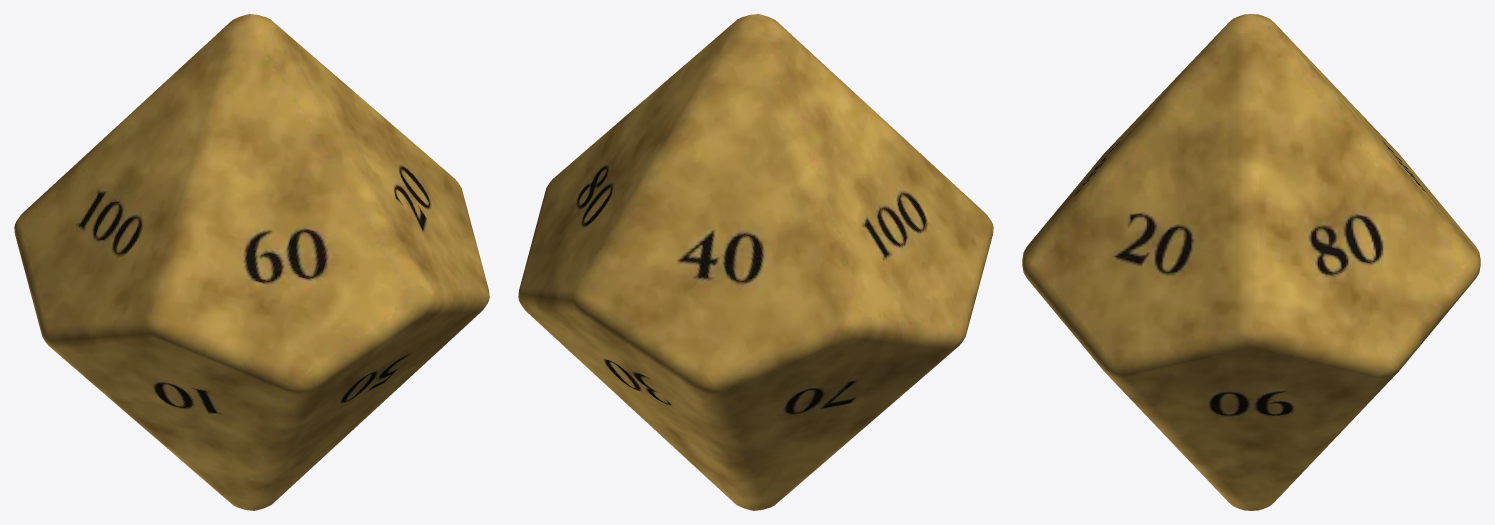
File: imperial-d100.glb
The picture shows the model from 3 angles, left to right: view 1: azimuth 30°, elevation 25°; view 2: azimuth 150°, elevation 25°; view 3: azimuth 270°, elevation 25°; orthographic projection.
Visible parts, largest first — view 1: imperial_d100; view 2: imperial_d100; view 3: imperial_d100.
Part boxes in pixels (x1=…): imperial_d100: x1=14, y1=14, x2=489, y2=510; imperial_d100: x1=518, y1=14, x2=993, y2=510; imperial_d100: x1=1022, y1=14, x2=1480, y2=510.
Size of the model in its own units: 1.66 by 1.91 by 1.59.
1 material, 1 textured.
